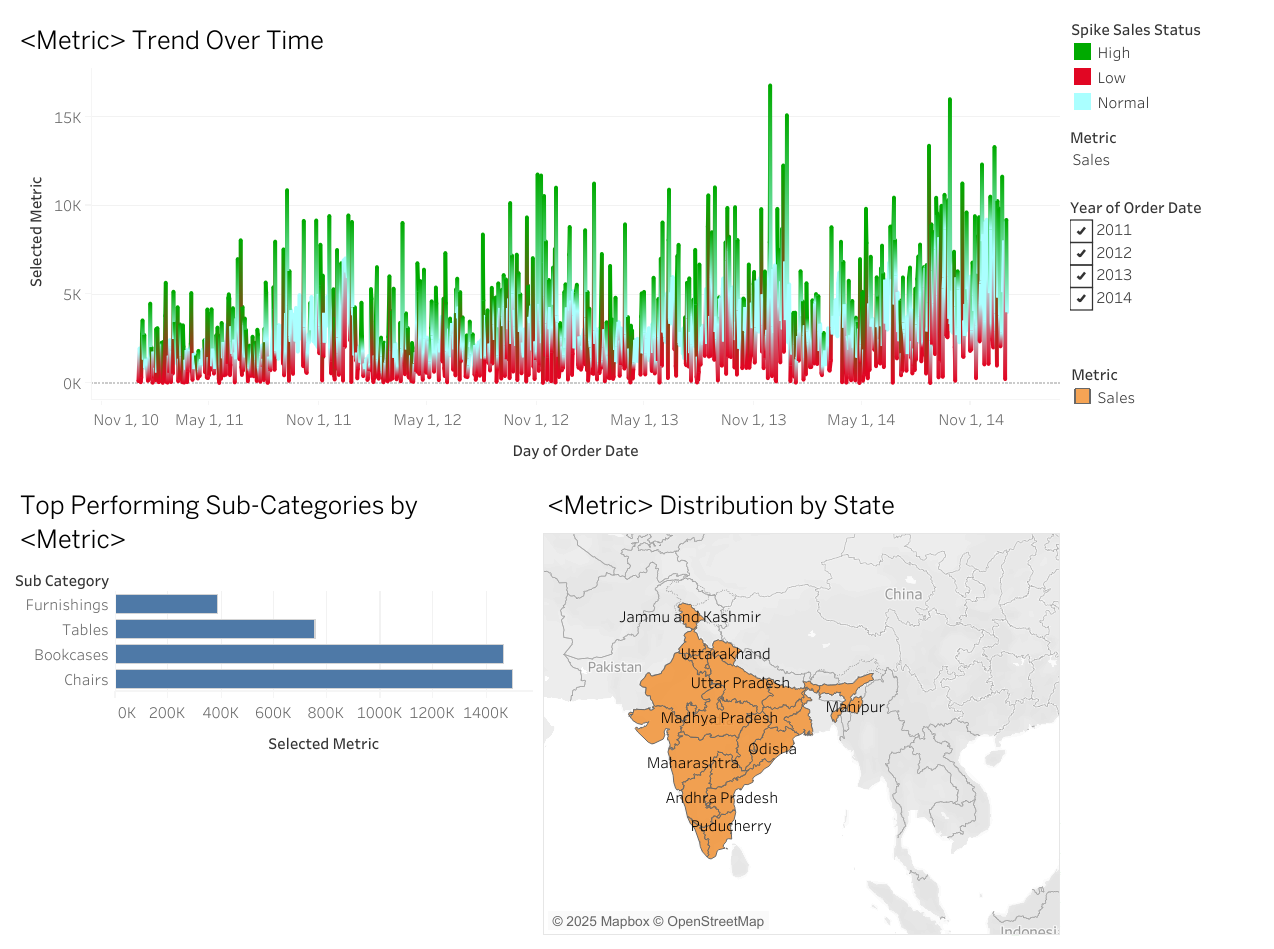

The page's visual inventory and layout, read from the dashboard file:
{"tool":"tableau","page":{"name":"Dashboard 1","canvas":[1000,1000],"units":"permille","ordinal":0},"visuals":[{"type":"worksheet","title":"Sheet 1","mark":"Automatic","rows":["Calculation_167759103386554374"],"cols":["order_date"],"box":[7.8,10,827.5,490]},{"type":"legend","title":"Sheet 1","param":"[federated.18bwtsg01wkdxt1gwvo6m1w4bbrm].[usr:Calculation_167759103378563077:nk]","box":[835.3,10,156.9,116]},{"type":"parameter","param":"[Parameters].[Sales Parameter]","box":[835.3,126,156.9,69.8]},{"type":"filter","title":"Sheet 5","param":"[federated.18bwtsg01wkdxt1gwvo6m1w4bbrm].[yr:order_date:ok]","box":[835.3,195.8,156.9,188.3]},{"type":"legend","title":"Sheet 5","param":"[Parameters].[Sales Parameter]","box":[835.3,384.1,156.9,63.6]},{"type":"worksheet","title":"Sheet 4","mark":"Automatic","rows":["sub_category"],"cols":["Calculation_167759103386554374"],"box":[7.8,500,413.7,490]},{"type":"worksheet","title":"Sheet 5","mark":"Automatic","box":[421.6,500,413.7,490]}]}

Visuals, with their boxes on the dashboard's canvas, which has no fixed pixel size, in thousandths of its width and height (x1, y1, x2, y2). These are canvas units, not pixel positions in the 1274x949 screenshot, which may show the page scaled, cropped or inside an application window:
"Sheet 1" worksheet: crop(8, 10, 835, 500)
"Sheet 1" legend: crop(835, 10, 992, 126)
parameter: crop(835, 126, 992, 196)
"Sheet 5" filter: crop(835, 196, 992, 384)
"Sheet 5" legend: crop(835, 384, 992, 448)
"Sheet 4" worksheet: crop(8, 500, 422, 990)
"Sheet 5" worksheet: crop(422, 500, 835, 990)
